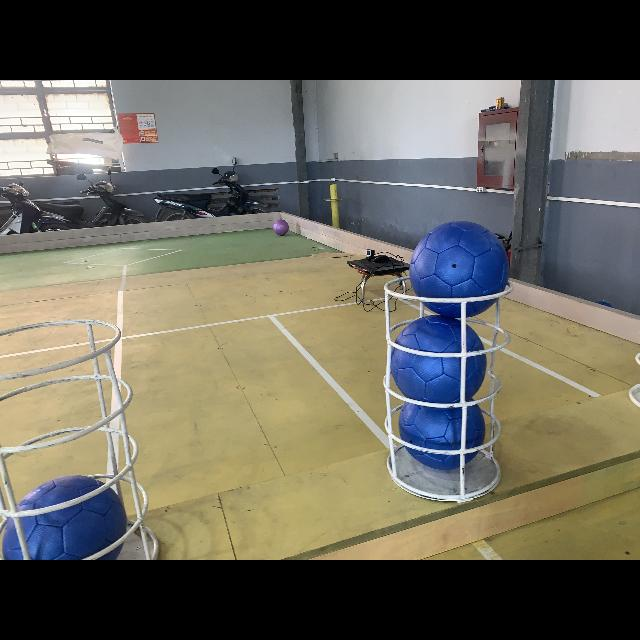B: (3, 476, 129, 560), (410, 222, 508, 314), (392, 314, 483, 401), (398, 398, 486, 472)
